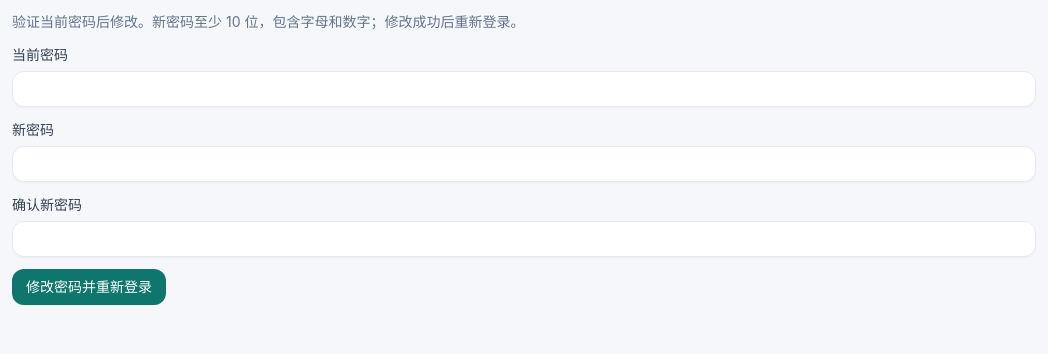
Scenario: 修改失败保留登录和输入，允许重试
The image size is (1048, 354).
Type "old-password" into the password field labelled "当前密码" at (524, 89), box [12,71,1036,107]
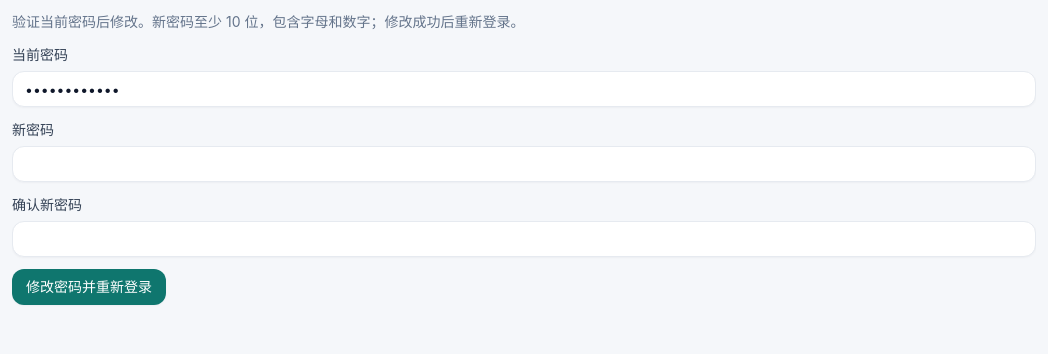
Type "NewPassword123!" into the password field labelled "新密码" at (524, 164), box [12,146,1036,182]
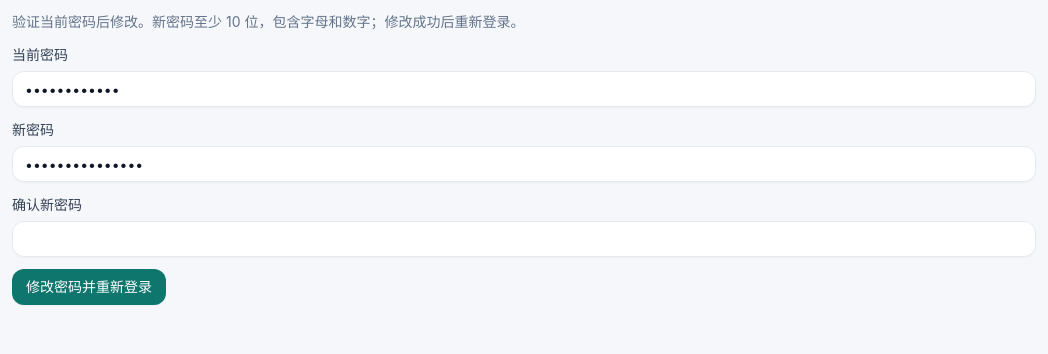
Type "NewPassword123!" into the password field labelled "确认新密码" at (524, 239), box [12,221,1036,257]
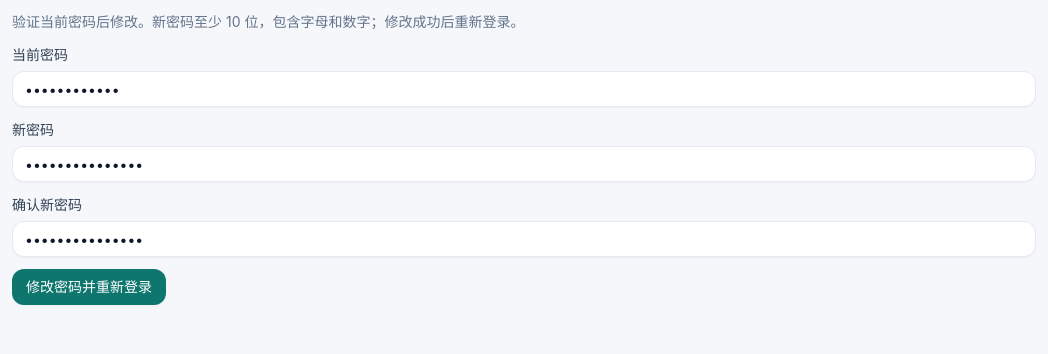
Click the button at (89, 287), box [12,269,166,305]
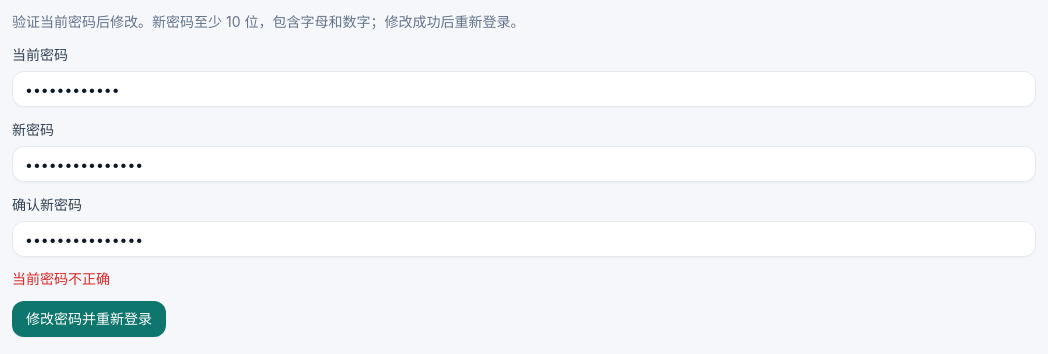
Result: the message reads "当前密码不正确" at [12,270,110,287]
